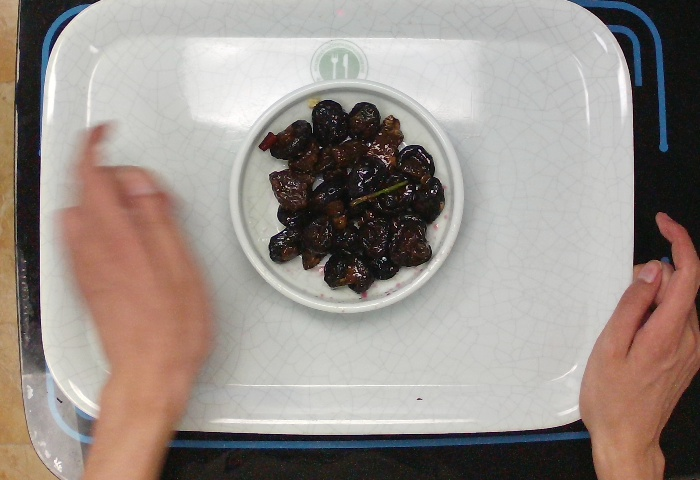JYsf-Xiao_Yuan_Pan: (224, 78, 468, 312)
